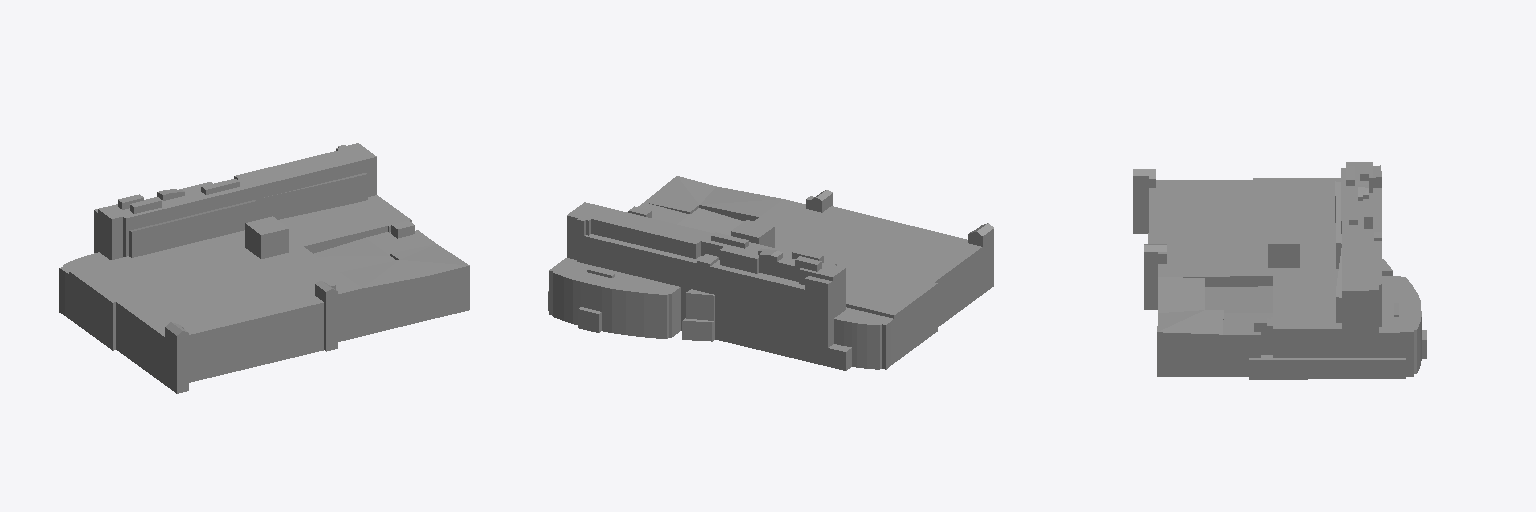
File: talo_build0000078_rotated.obj
The picture shows the model from 3 angles: view 1: azimuth 30°, elevation 25°; view 2: azimuth 150°, elevation 25°; view 3: azimuth 270°, elevation 25°; orthographic projection.
Visible parts, largest first — view 1: talo_Build[number redacted]; view 2: talo_Build[number redacted]; view 3: talo_Build[number redacted].
Boxes of the visible parts, box(x1,y1,x2,y2) form: talo_Build[number redacted]: box(59, 143, 469, 393); talo_Build[number redacted]: box(548, 176, 993, 370); talo_Build[number redacted]: box(1133, 162, 1426, 379).
Bounding box in the file's own units: 9.42 × 2.67 × 7.63.